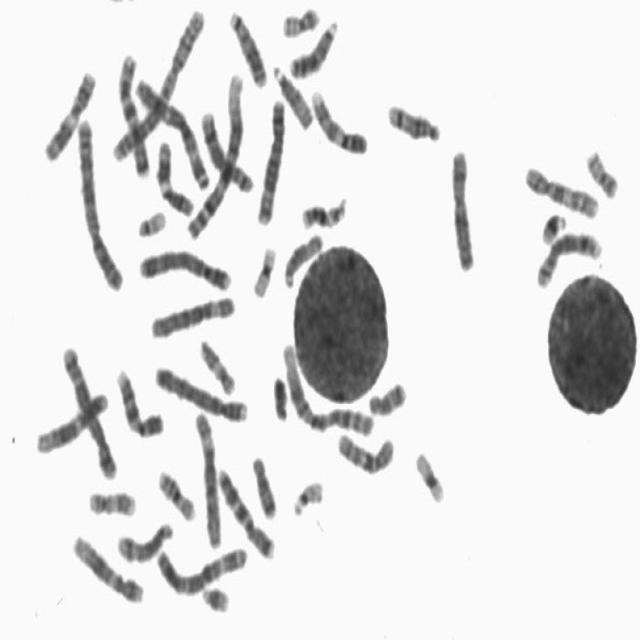A1: (183, 62, 248, 242), (278, 334, 378, 439)
A2: (107, 0, 207, 165), (72, 110, 125, 293)
A3: (130, 69, 212, 192), (151, 535, 250, 597)
B4: (150, 356, 250, 425), (133, 238, 235, 293)
B5: (58, 337, 120, 481), (251, 89, 288, 228)
C10: (520, 155, 602, 221), (332, 423, 397, 477)
C11: (38, 59, 98, 164), (151, 132, 196, 218)
C12: (67, 524, 146, 606), (30, 381, 110, 456)
C6: (189, 402, 224, 550), (146, 285, 238, 341)
C7: (212, 458, 276, 560), (113, 43, 152, 179)
C8: (196, 101, 256, 194), (531, 221, 605, 290)
C9: (306, 80, 370, 156), (111, 358, 166, 439)
D13: (224, 1, 269, 90), (285, 10, 340, 81)
D14: (111, 512, 176, 564), (382, 93, 444, 144)
D15: (268, 56, 315, 131), (278, 224, 325, 289)
E16: (153, 460, 198, 522), (296, 188, 350, 231)
E17: (195, 330, 238, 398), (83, 481, 138, 519)
E18: (246, 447, 279, 521), (364, 372, 409, 418)
F19: (410, 440, 448, 505), (247, 236, 279, 299)
F20: (581, 139, 621, 201), (277, 0, 322, 39)
G21: (196, 574, 232, 615), (536, 203, 568, 246)
G22: (288, 471, 326, 517), (133, 200, 168, 238)
X: (446, 138, 478, 274)
Y: (268, 366, 290, 423)
